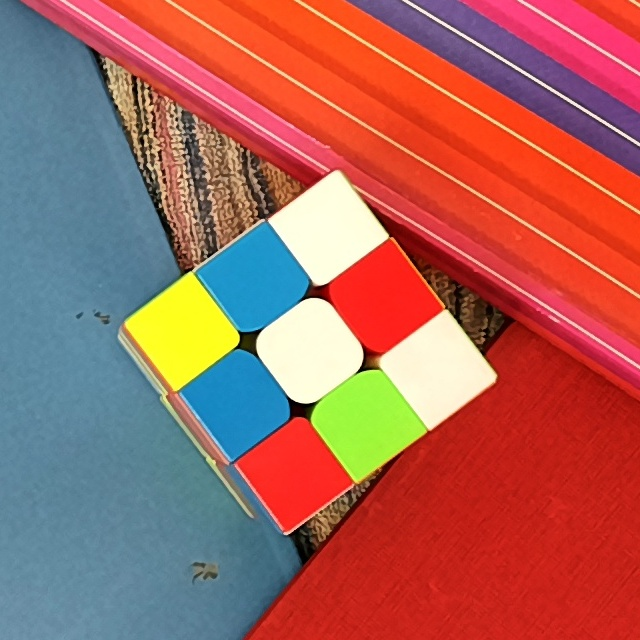tile: (279, 322, 336, 381), (151, 307, 211, 363), (223, 255, 284, 309), (211, 375, 271, 429), (356, 273, 414, 328), (336, 396, 395, 450), (298, 200, 356, 254), (268, 444, 322, 501), (408, 345, 464, 397)
